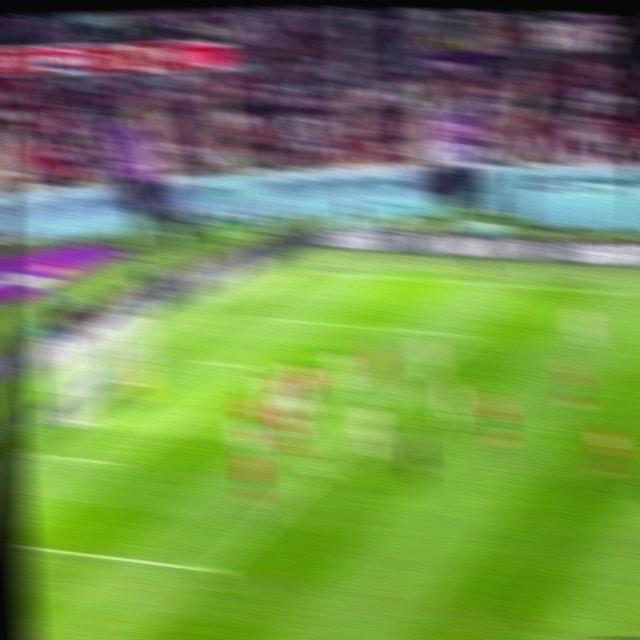bigarea_bottom_inner: (194, 552, 232, 587)
bigarea_top_inner: (452, 322, 481, 346)
bigarea_top_outter: (241, 306, 271, 326)
bottom_arc_area_intersection: (303, 457, 335, 485)
corner: (310, 265, 339, 282)
smallarea_bottom_inner: (104, 446, 141, 479)
smallarea_bottom_outter: (22, 439, 53, 467)
smallarea_top_inner: (241, 354, 275, 381)
smallarea_top_outter: (173, 346, 203, 371)
top_arc_area_intersection: (391, 377, 422, 403)
